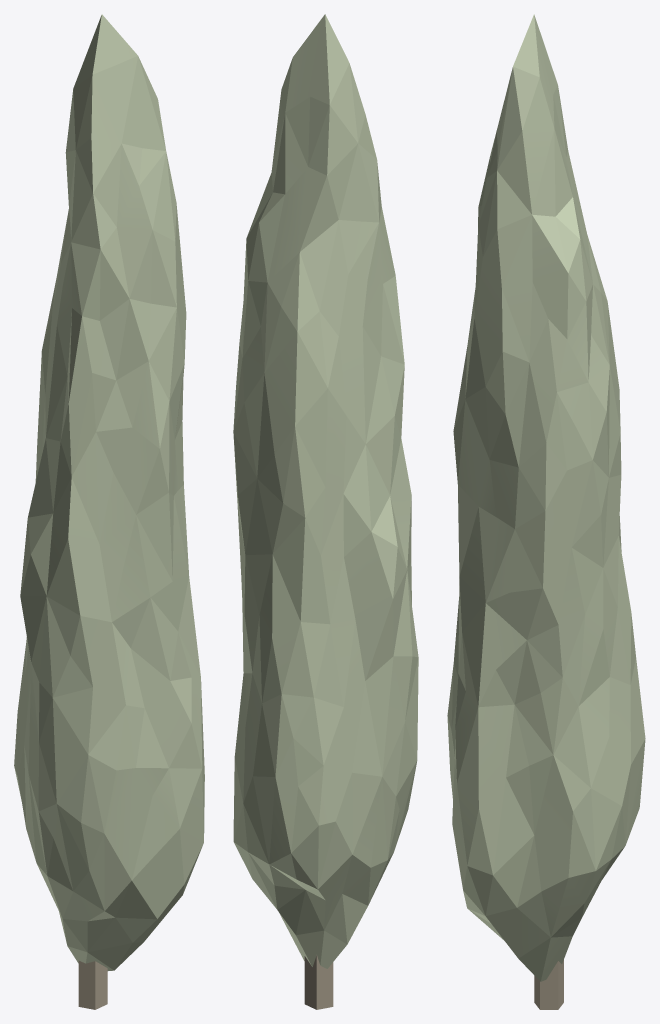
File: LightWoodDecorationMediumSlimTree1.fbx
3 views of the same model, side by side, from view 1: azimuth 30°, elevation 25°; view 2: azimuth 150°, elevation 25°; view 3: azimuth 270°, elevation 25° (orthographic).
Visible parts, largest first — view 1: LightWoodDecorationMediumSlimTree1, TreeTrunk; view 2: LightWoodDecorationMediumSlimTree1, TreeTrunk; view 3: LightWoodDecorationMediumSlimTree1, TreeTrunk.
Part boxes in pixels (<box>): LightWoodDecorationMediumSlimTree1: <box>14,14,204,970</box>; TreeTrunk: <box>78,960,107,1009</box>; LightWoodDecorationMediumSlimTree1: <box>233,14,418,968</box>; TreeTrunk: <box>304,955,333,1009</box>; LightWoodDecorationMediumSlimTree1: <box>447,14,645,981</box>; TreeTrunk: <box>534,960,563,1009</box>.
Size of the model in its own units: 185 by 1106 by 200.
